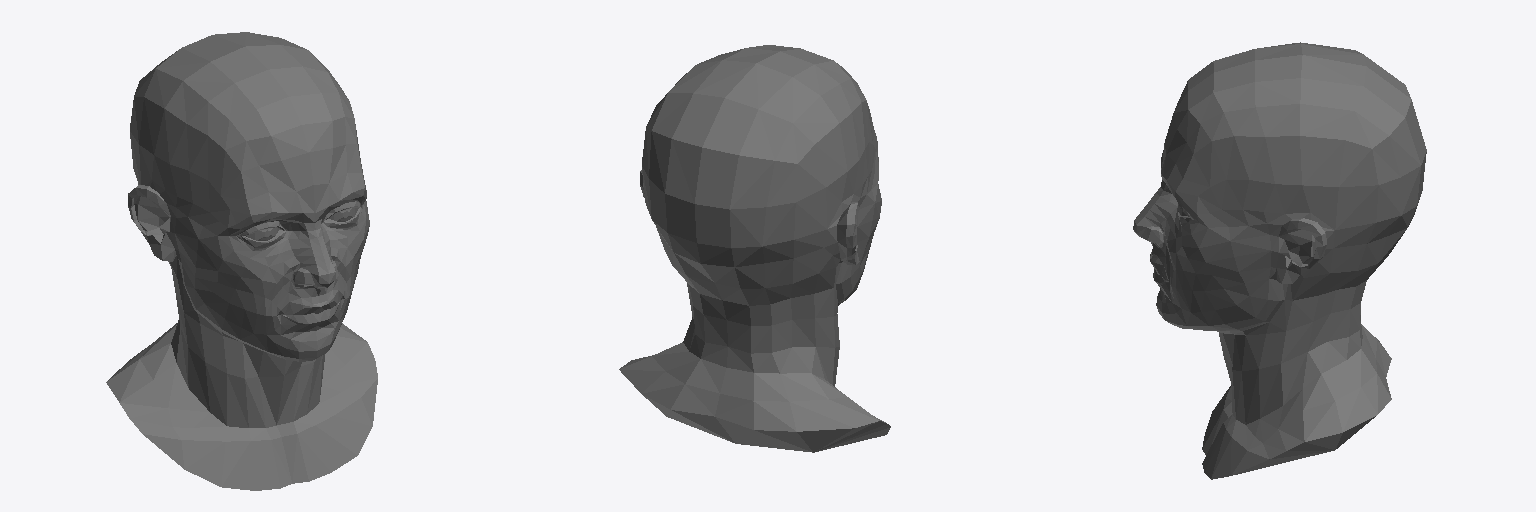
The model's file is head10.obj.
3 renders of one model, left to right at view 1: azimuth 30°, elevation 25°; view 2: azimuth 150°, elevation 25°; view 3: azimuth 270°, elevation 25°, orthographic.
Visible parts, largest first — view 1: Figure_1; view 2: Figure_1; view 3: Figure_1.
Boxes of the visible parts, x1=… form: Figure_1: x1=106, y1=32, x2=377, y2=490; Figure_1: x1=619, y1=45, x2=890, y2=452; Figure_1: x1=1133, y1=42, x2=1426, y2=479.
Size of the model in its own units: 22.21 by 34.36 by 22.75.